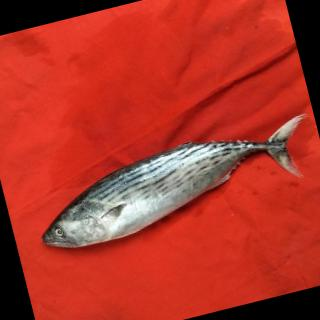Ikan: (23, 110, 320, 265)
